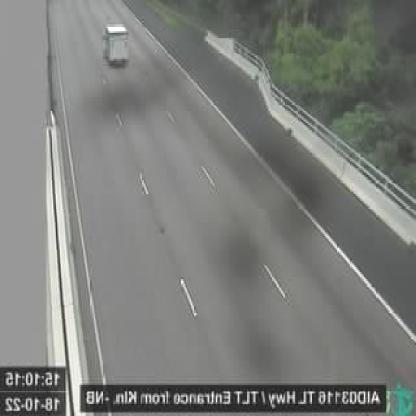Truck: (104, 23, 130, 67)
